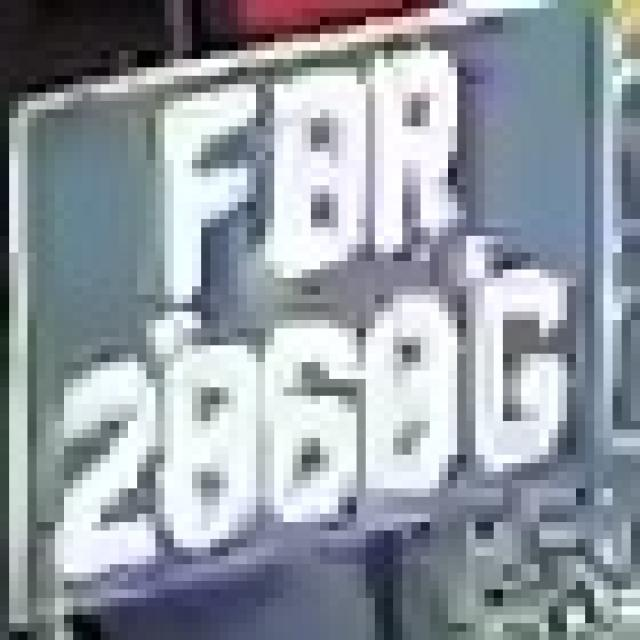2: (55, 354, 164, 598)
6: (238, 294, 366, 530)
8: (128, 312, 265, 556), (348, 294, 476, 530)
B: (247, 67, 366, 278)
F: (146, 51, 265, 320)
G: (457, 261, 585, 480)
R: (338, 42, 476, 278)
